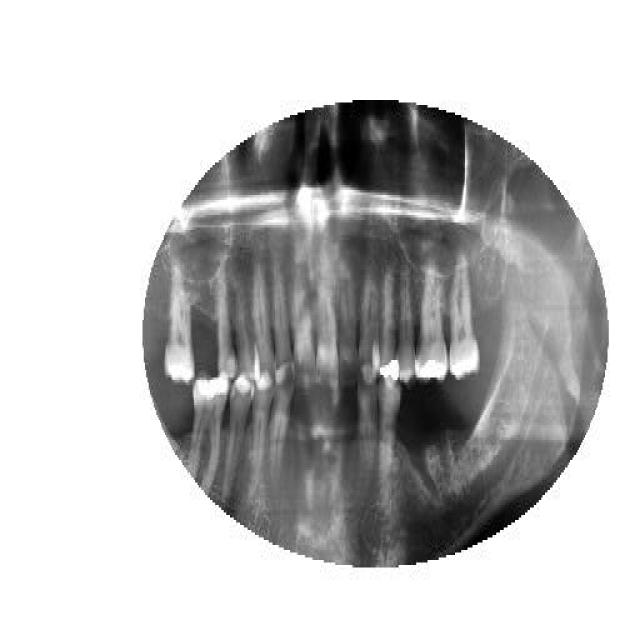Fillings: (188, 367, 230, 495), (415, 263, 447, 385), (380, 255, 399, 383)
